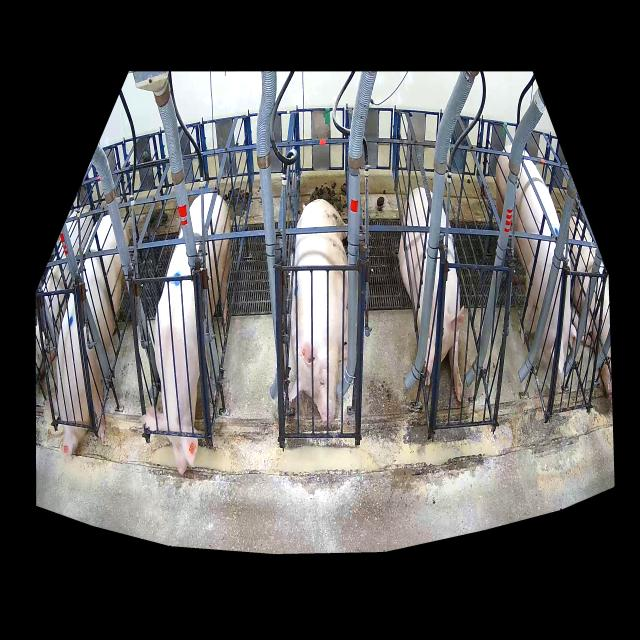pig: (139, 193, 232, 474), (44, 214, 123, 457), (495, 145, 576, 371), (399, 188, 464, 401), (288, 199, 348, 425)
